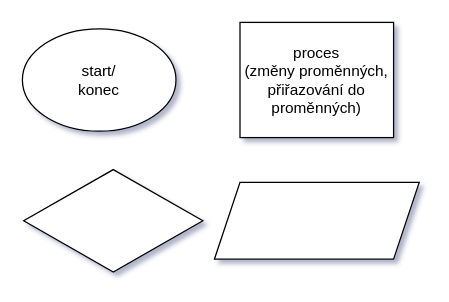
This 449x302 diagram has some shape labels left out. Here are the shapes that lost their labels. From the top down, the box of each, then its label:
(22, 168, 203, 272): rozhodování/ otázka
(213, 181, 419, 259): vstup/výstup (např.: vypisování)
